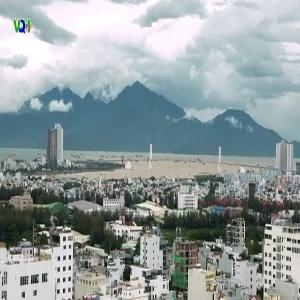drone: (138, 178, 188, 228)
